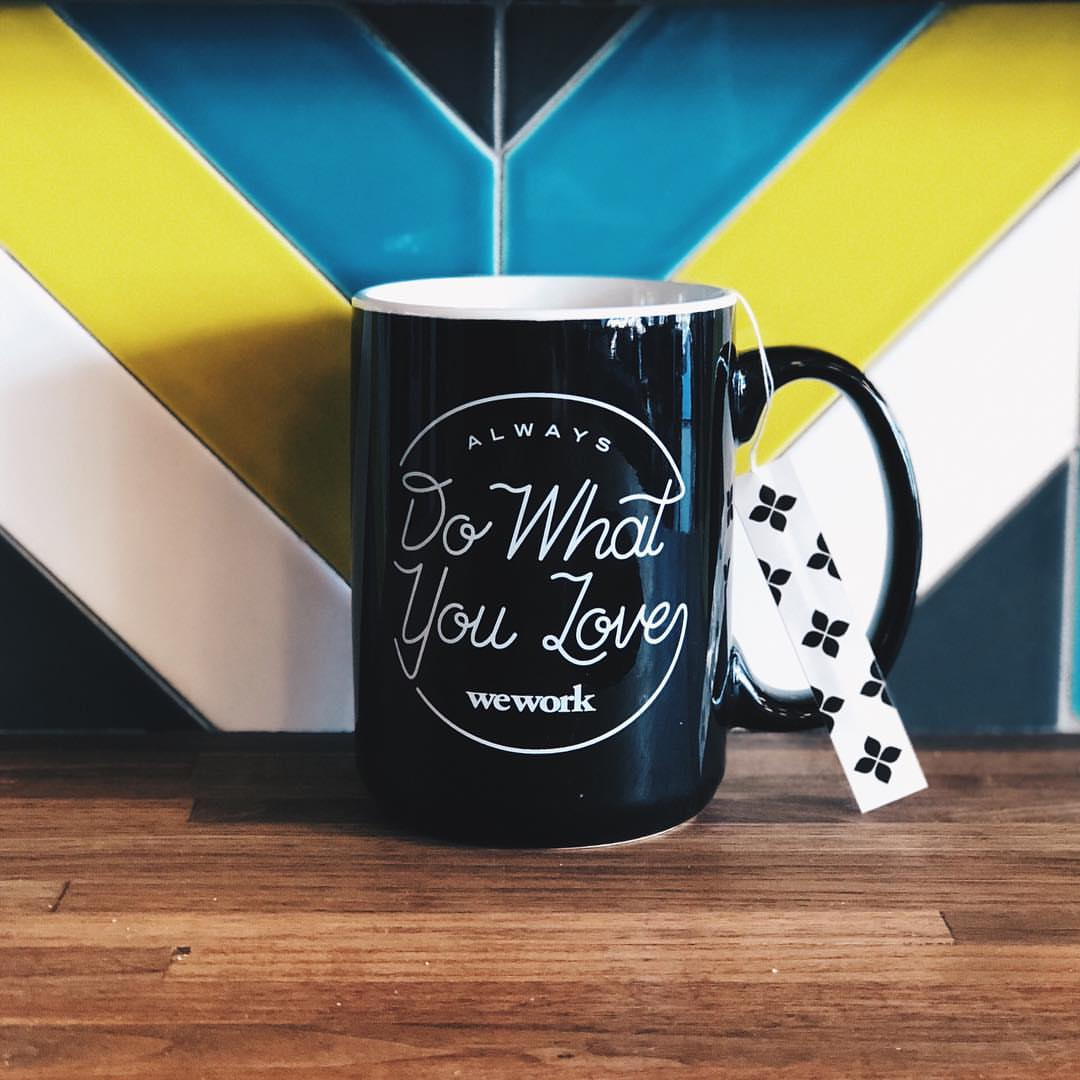wework: (462, 677, 601, 717)
